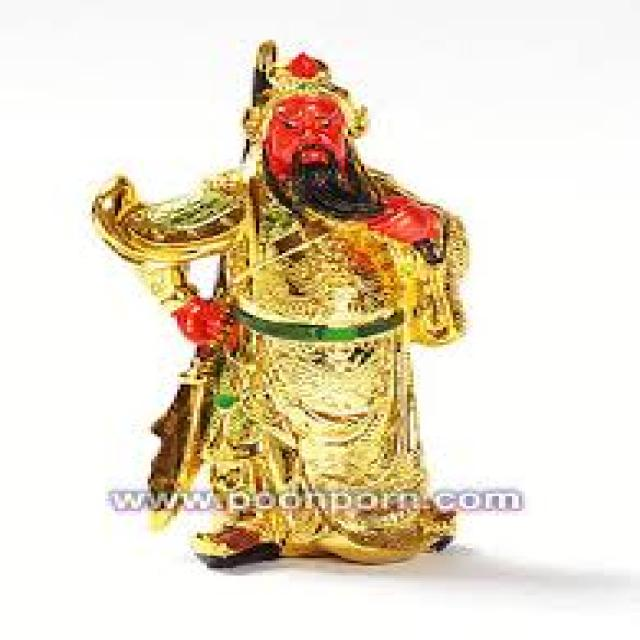Guan Yu: (139, 50, 458, 438)
